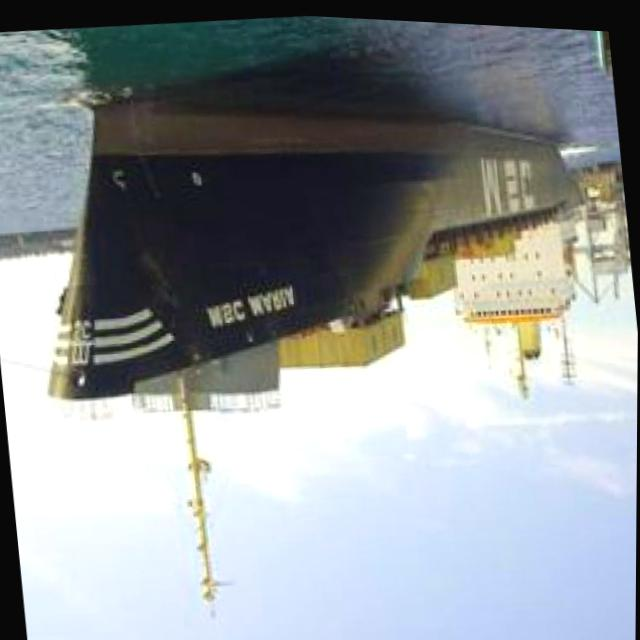ship2: (48, 101, 584, 618)
